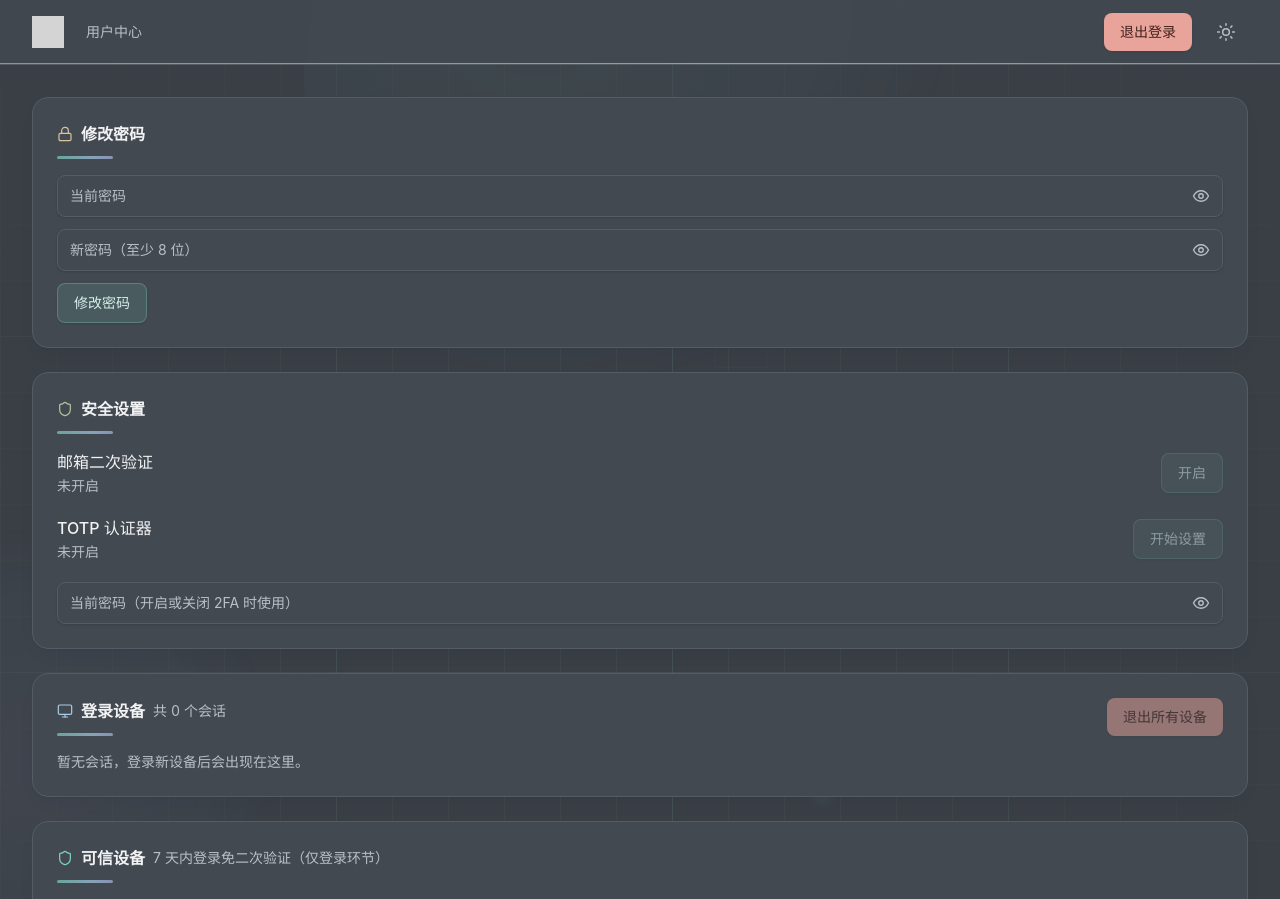
it: DashboardPage › 修改密码失败时在当前密码旁内联展示错误
Type "wrongpass" into the password field with placeholder "当前密码" at point(640, 196), box [57, 175, 1223, 217]
(page scrolled)
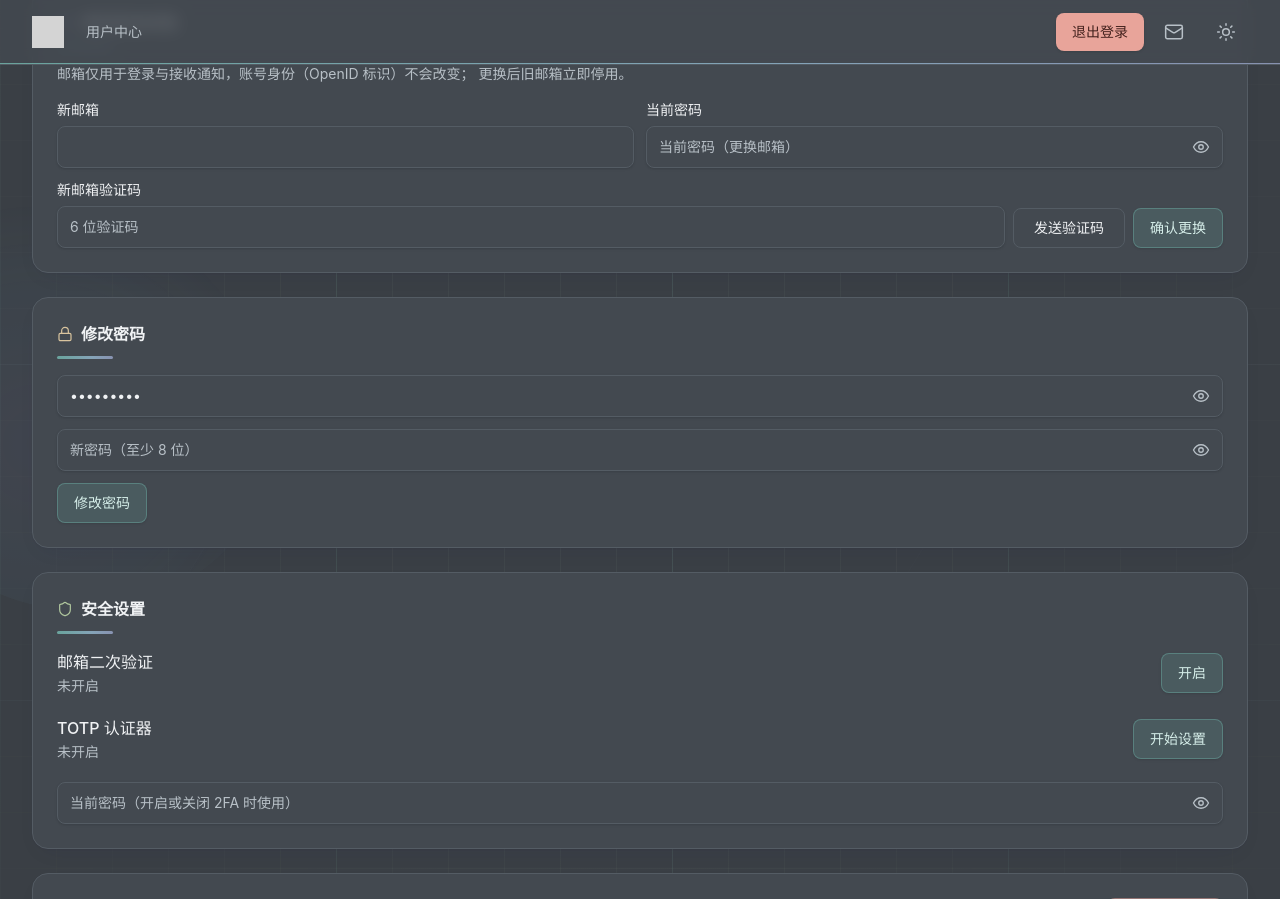
Type "newpassword123" into the password field with placeholder "新密码（至少 8 位）" at point(640, 450), box [57, 429, 1223, 471]
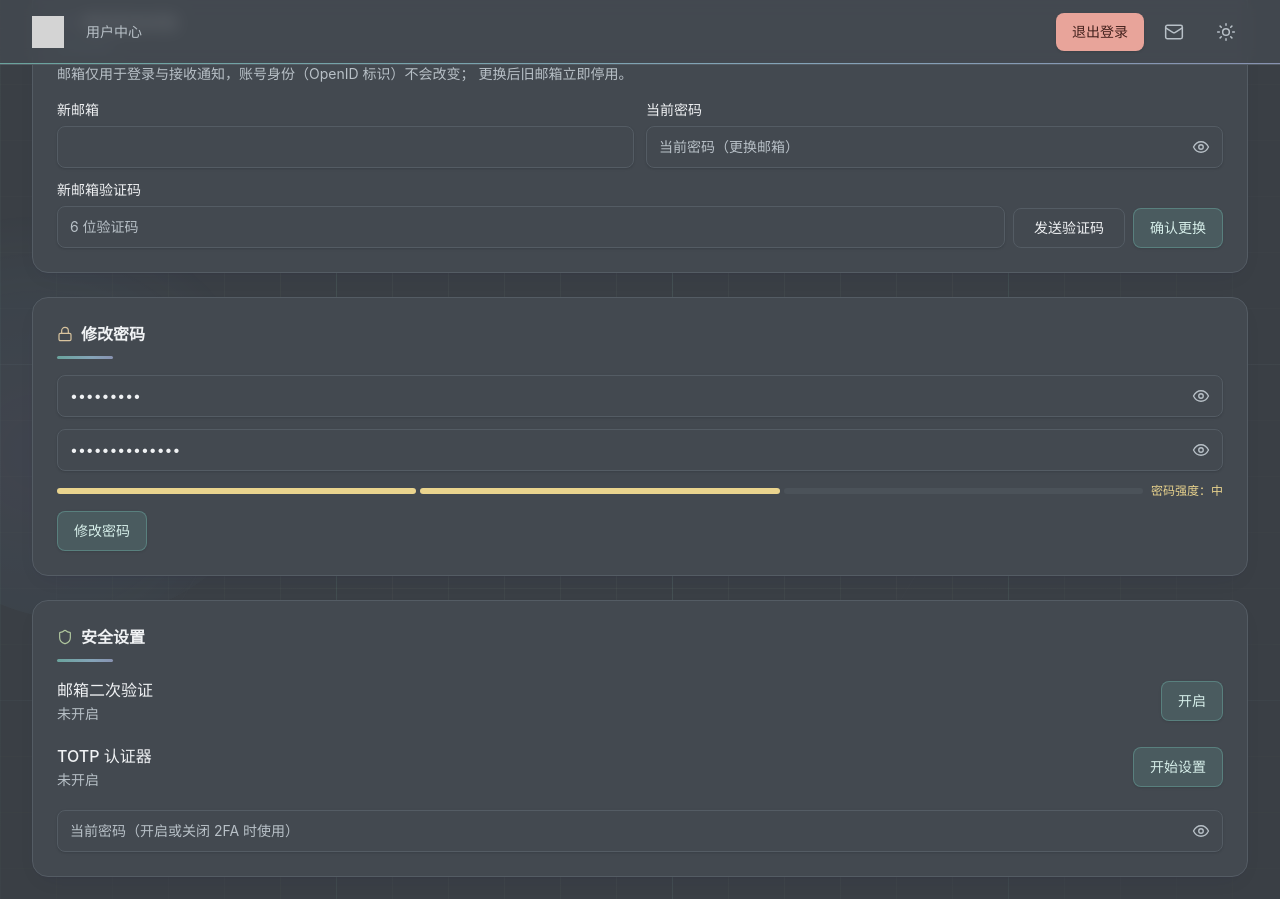
Click the button "修改密码" at point(102, 531), box [57, 511, 147, 551]
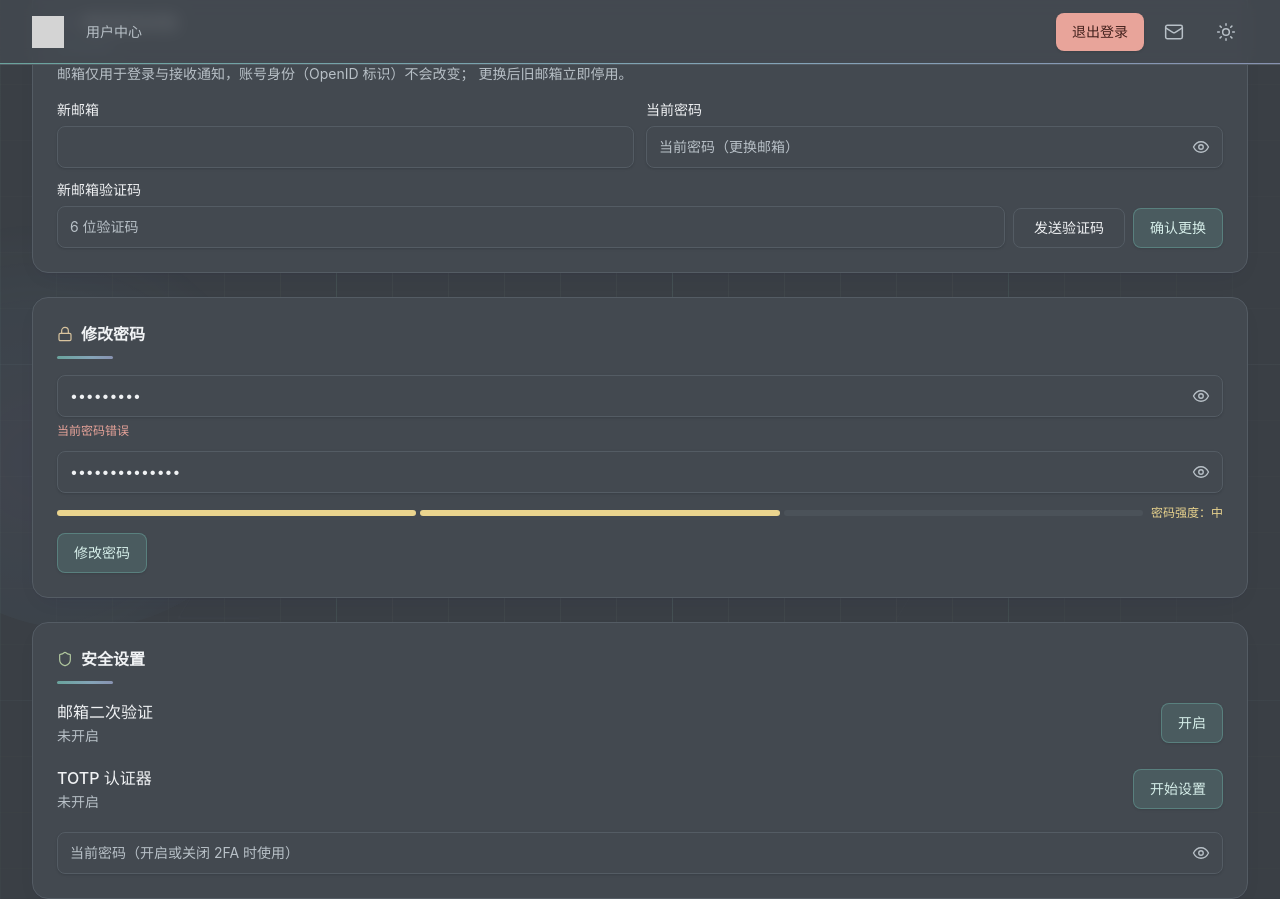
Now the message with id "change-password-error" reads "当前密码错误", box [57, 423, 129, 438]
